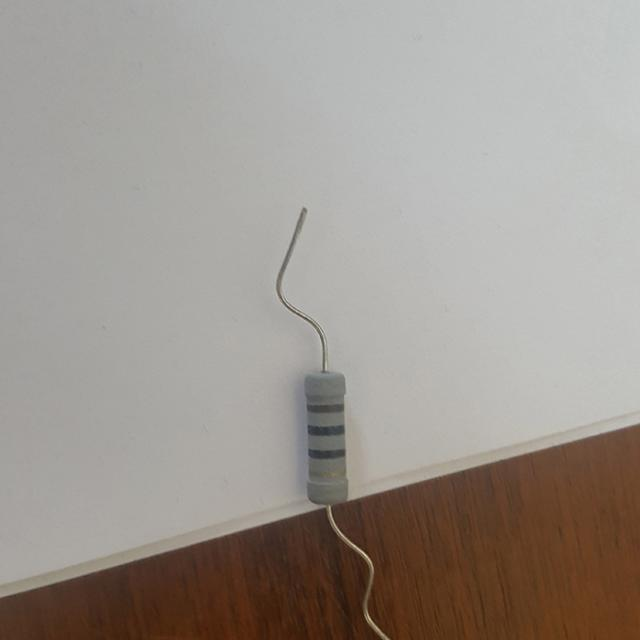black: (309, 425, 343, 433), (311, 449, 344, 456)
brown: (309, 404, 343, 411)
gold: (310, 472, 344, 477)
resistor: (285, 363, 364, 517)
